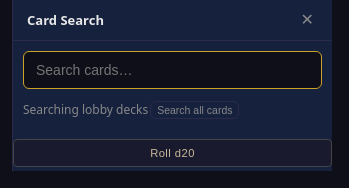
Test: CardSidebar › clicking "Search all cards" toggle switches to all-cards mode label
expect the text "Searching lobby decks" is shown: met, box left=23, top=101, right=148, bottom=118
Click the button "Search all cards" at (195, 110), box left=150, top=101, right=240, bottom=119
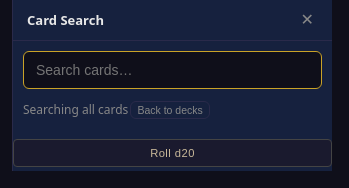
expect the text "Searching all cards" is shown: met, box left=23, top=101, right=128, bottom=118
